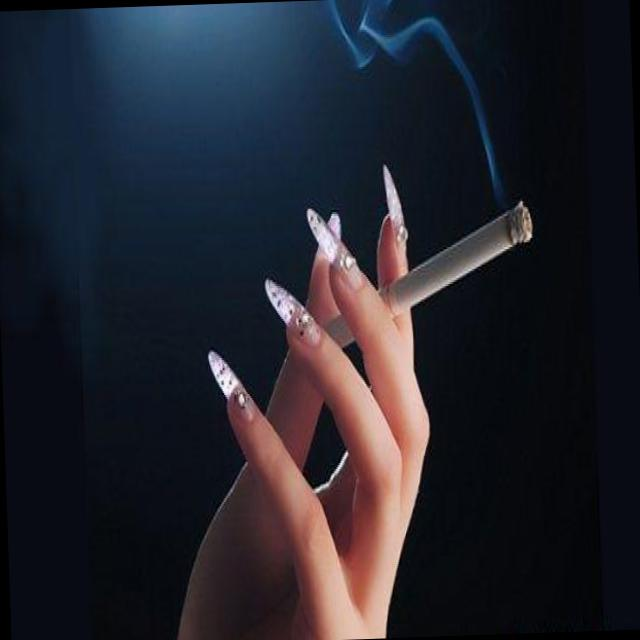smoke: (298, 168, 554, 380)
